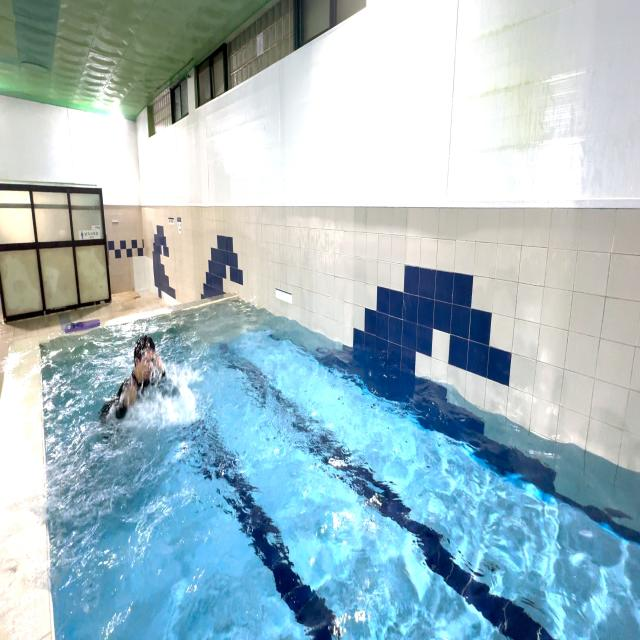Drowning: (114, 329, 195, 432)
